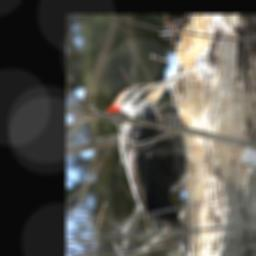Woodpecker: (104, 75, 188, 256)
